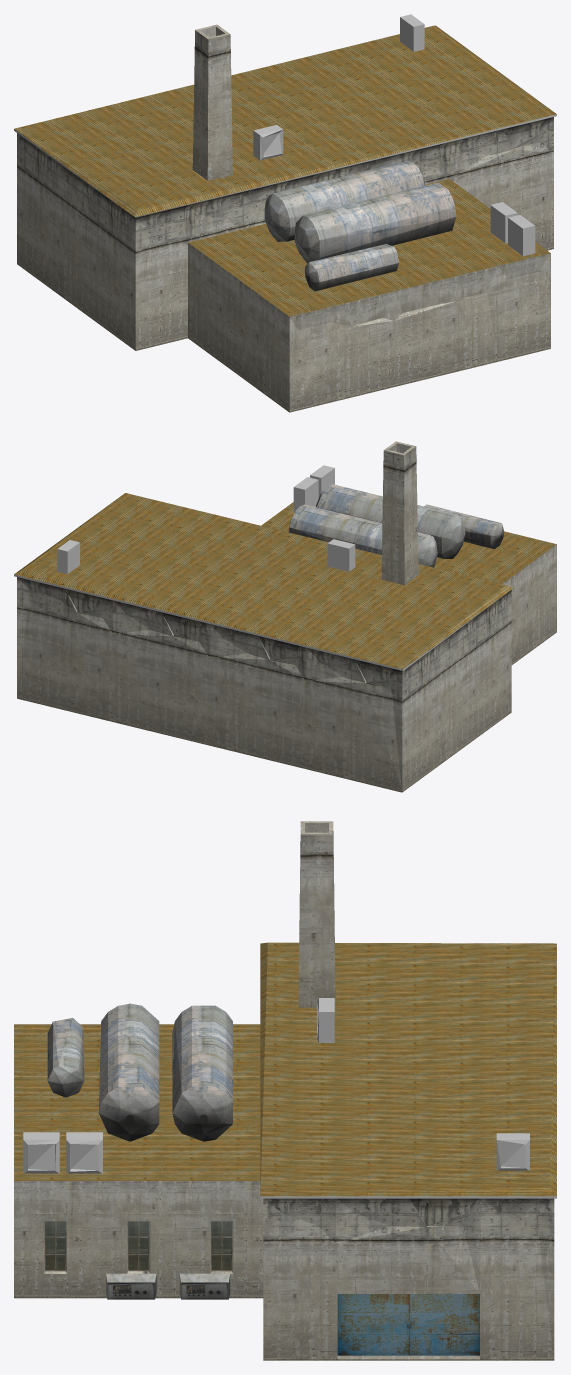
File: Building_3_LOD03.fbx
3 renders of one model, top to bottom at view 1: azimuth 30°, elevation 25°; view 2: azimuth 150°, elevation 25°; view 3: azimuth 270°, elevation 25°, orthographic. The views are drawn at different scales.
Visible parts, largest first — view 1: Building_3_LOD03; view 2: Building_3_LOD03; view 3: Building_3_LOD03.
Boxes of the visible parts, left/top/right/bottom form: Building_3_LOD03: left=14, top=14, right=556, bottom=412; Building_3_LOD03: left=14, top=441, right=556, bottom=792; Building_3_LOD03: left=14, top=821, right=556, bottom=1360.
Bounding box in the file's own units: 19.45 × 12.27 × 17.66.
